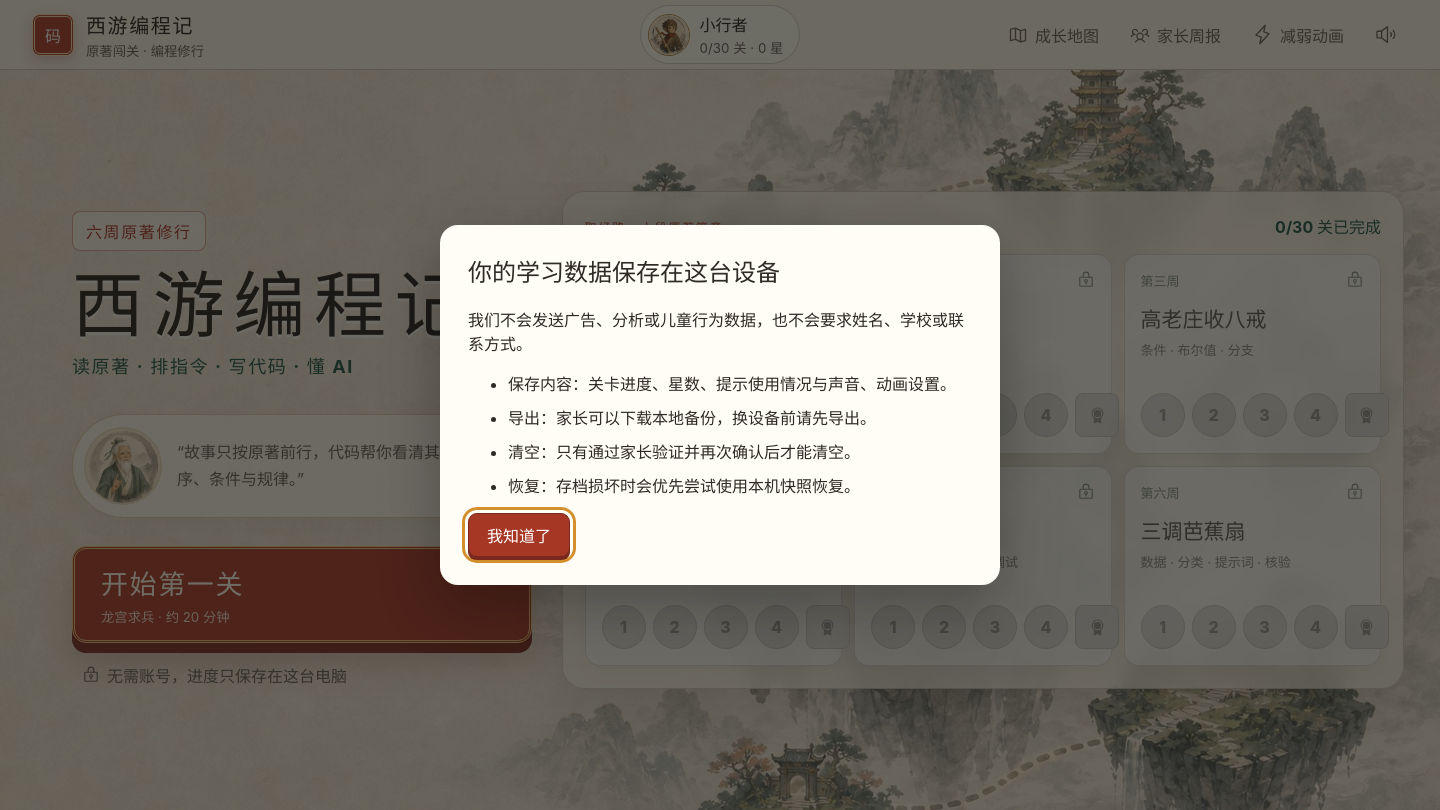
Test: 西游编程记 › shows the six-week canonical journey and the first mission
This screenshot has width=1440, height=810.
Click the button "我知道了" at (519, 536), box [468, 514, 570, 558]
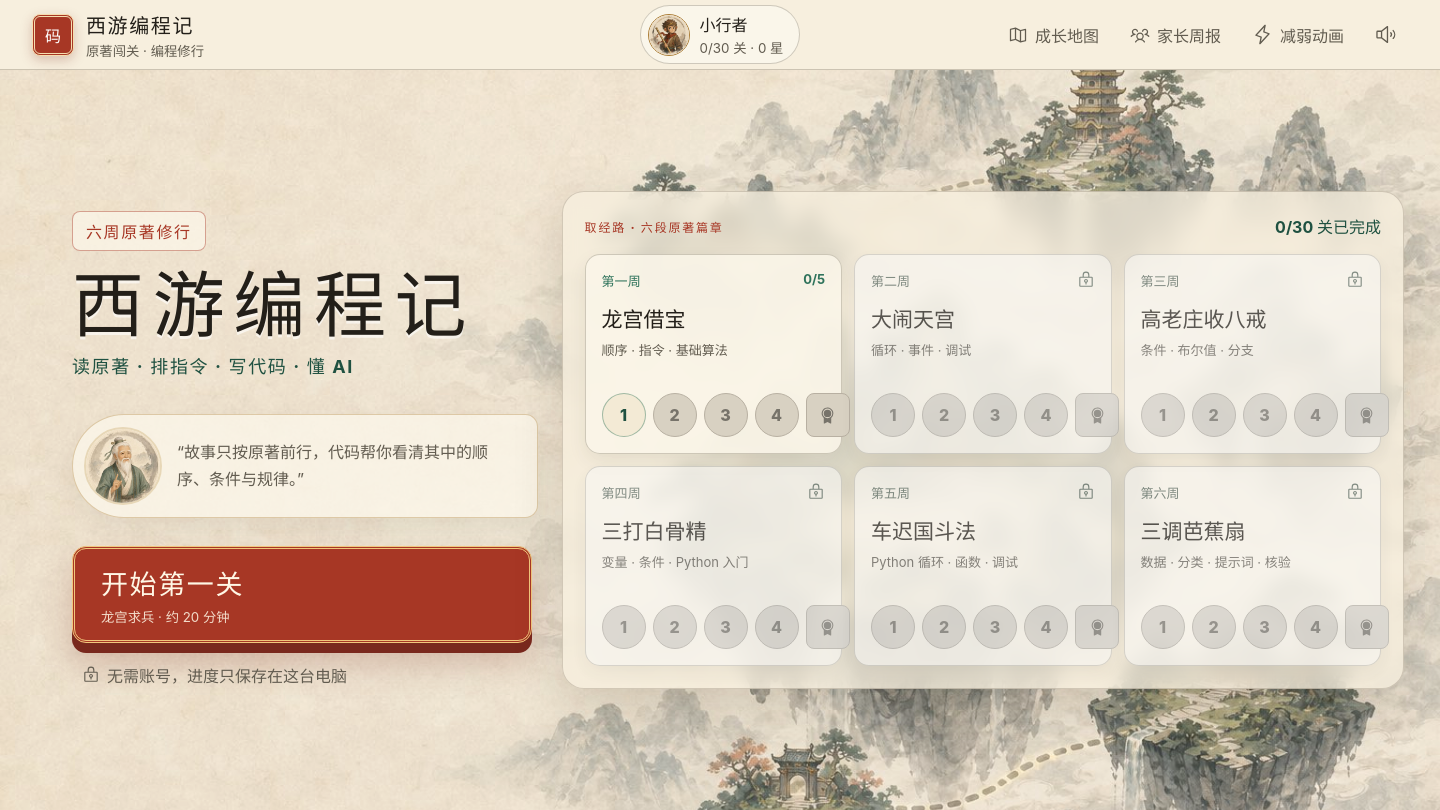
Expected: the heading "西游编程记" is shown, [72, 270, 538, 347]
Result: the heading "你的学习数据保存在这台设备" is gone
